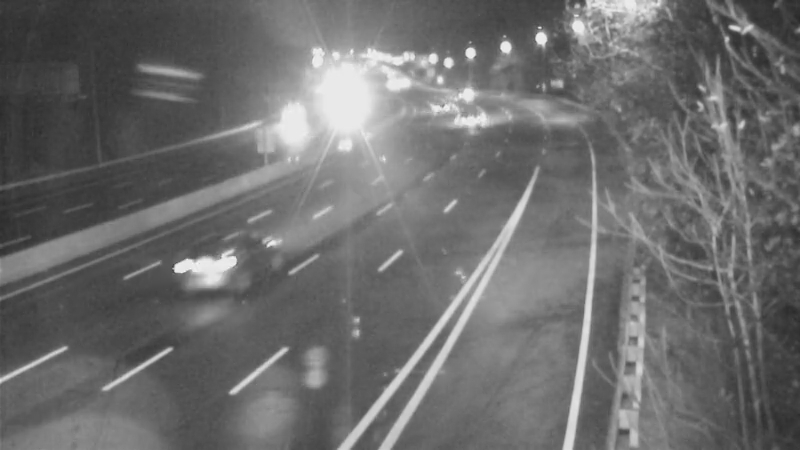vehicle: (163, 222, 243, 302), (435, 67, 485, 117), (417, 81, 467, 131), (439, 94, 489, 144), (263, 100, 313, 150)
